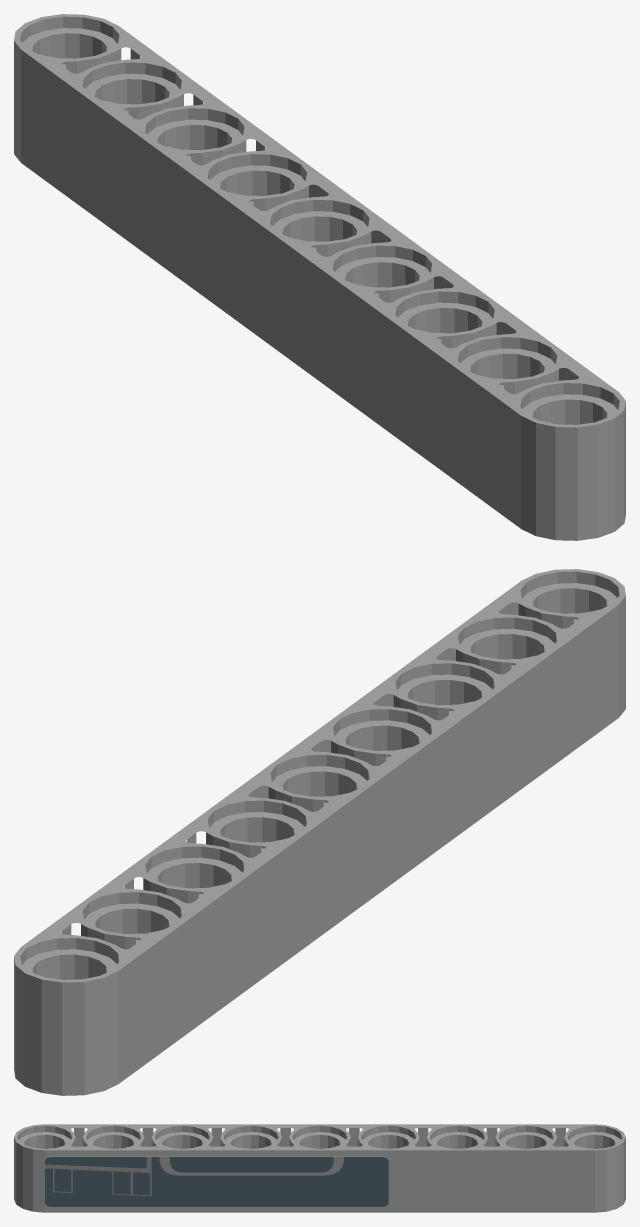
3 renders of one model, top to bottom at view 1: azimuth 30°, elevation 25°; view 2: azimuth 150°, elevation 25°; view 3: azimuth 270°, elevation 25°, orthographic. The views are drawn at different scales.
Visible parts, largest first — view 1: world; view 2: world; view 3: world.
Part boxes in pixels (x1,y1,x2,y2): world: [14, 14, 625, 540]; world: [14, 569, 625, 1095]; world: [14, 1124, 625, 1212].
Bounding box in the file's own units: 0.0073 × 0.008 × 0.0712.
